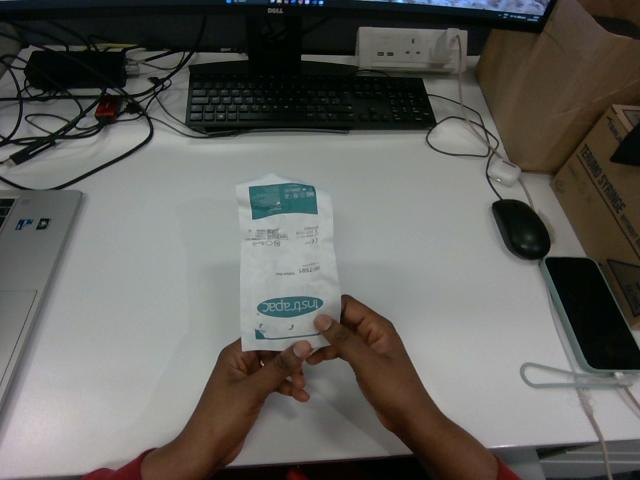gallipot: (236, 174, 340, 350)
